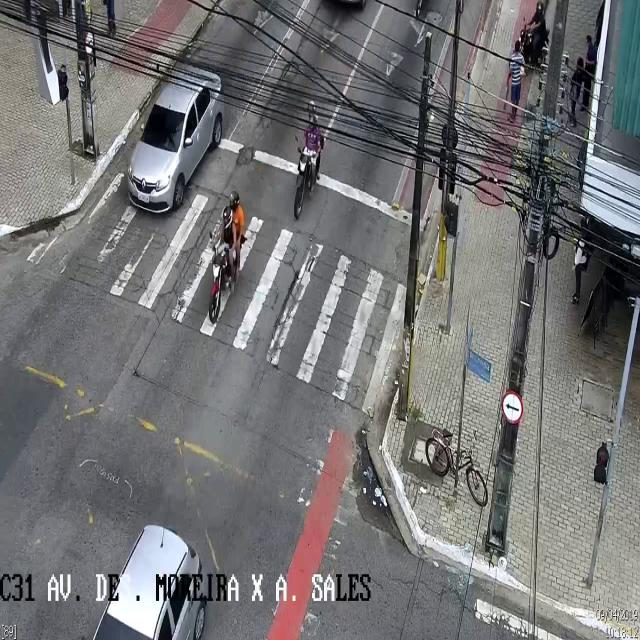Car: (127, 66, 221, 212), (91, 523, 205, 639)
Motorcycle: (209, 191, 247, 325), (294, 100, 324, 220), (514, 0, 558, 68)
